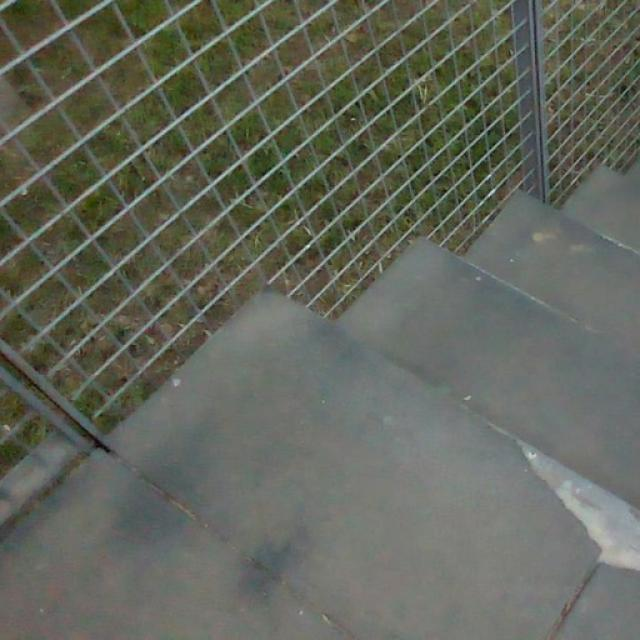stair: (288, 195, 625, 574)
